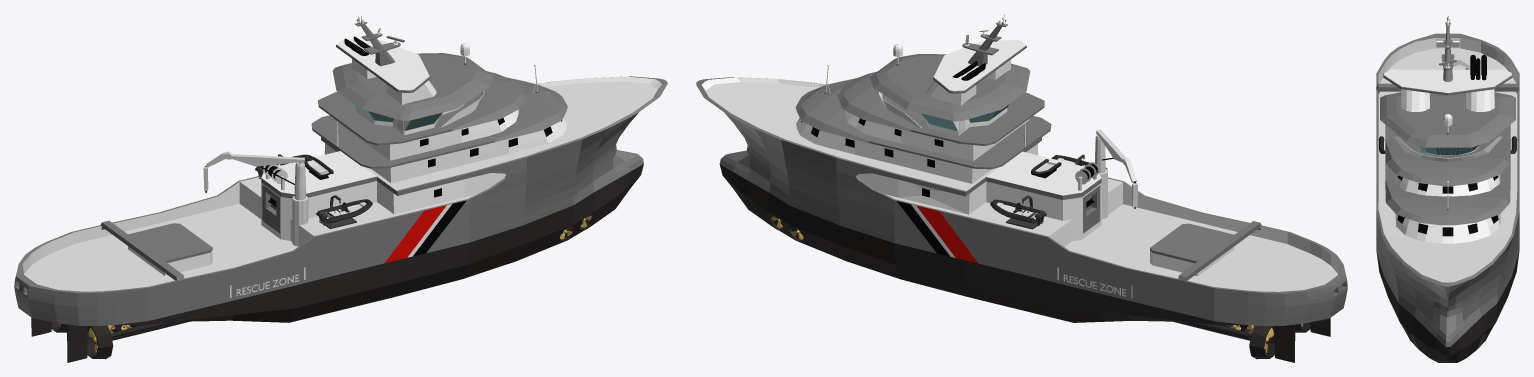
The model's file is GenericRescueShip.glb.
3 views of the same model, side by side, from view 1: azimuth 30°, elevation 25°; view 2: azimuth 150°, elevation 25°; view 3: azimuth 270°, elevation 25° (orthographic). The views are drawn at different scales.
Parts seen in each view (by area): view 1: Cube.014; view 2: Cube.014; view 3: Cube.014.
Part boxes in pixels (x1,y1,x2,y2): Cube.014: (14,16,667,362); Cube.014: (696,15,1347,362); Cube.014: (1376,16,1519,362).
Bounding box in the file's own units: 42 × 16.46 × 8.67.
